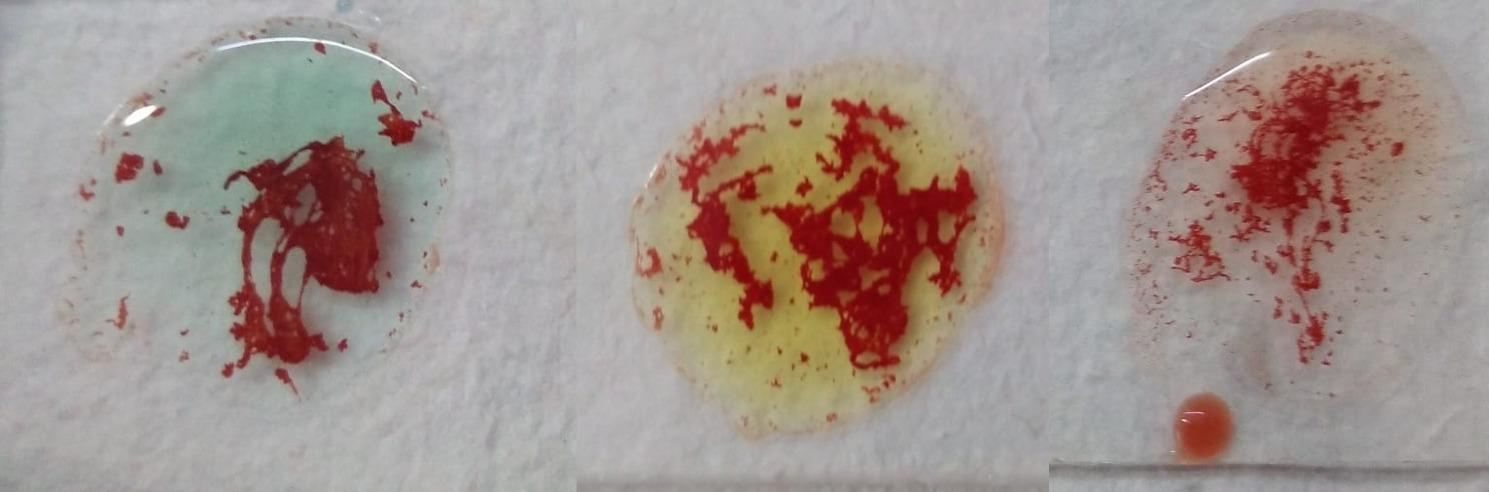A: (75, 33, 440, 406)
B: (627, 74, 991, 442)
D: (1155, 16, 1471, 397)
